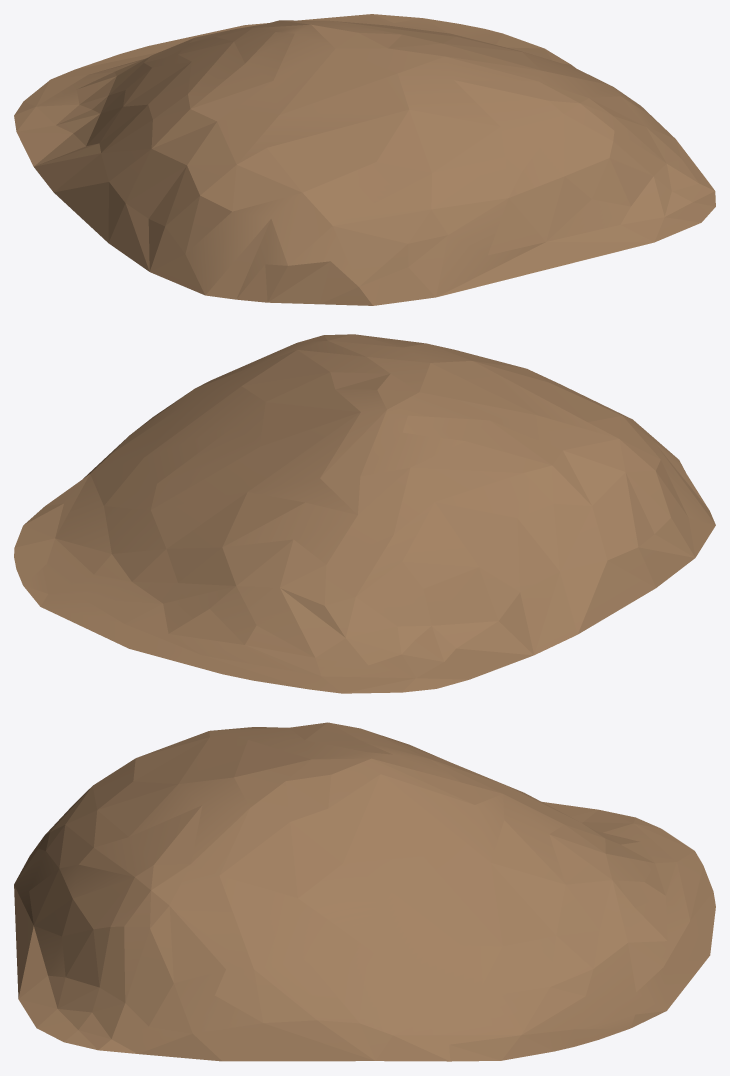
The model's file is Hill_01.fbx.
3 renders of one model, top to bottom at view 1: azimuth 30°, elevation 25°; view 2: azimuth 150°, elevation 25°; view 3: azimuth 270°, elevation 25°, orthographic. The views are drawn at different scales.
Parts seen in each view (by area): view 1: Hill_01; view 2: Hill_01; view 3: Hill_01.
Part boxes in pixels (<box>): Hill_01: <box>14,14,715,305</box>; Hill_01: <box>14,334,715,693</box>; Hill_01: <box>14,722,715,1061</box>.
Bounding box in the file's own units: 5643 × 1428 × 6084.
